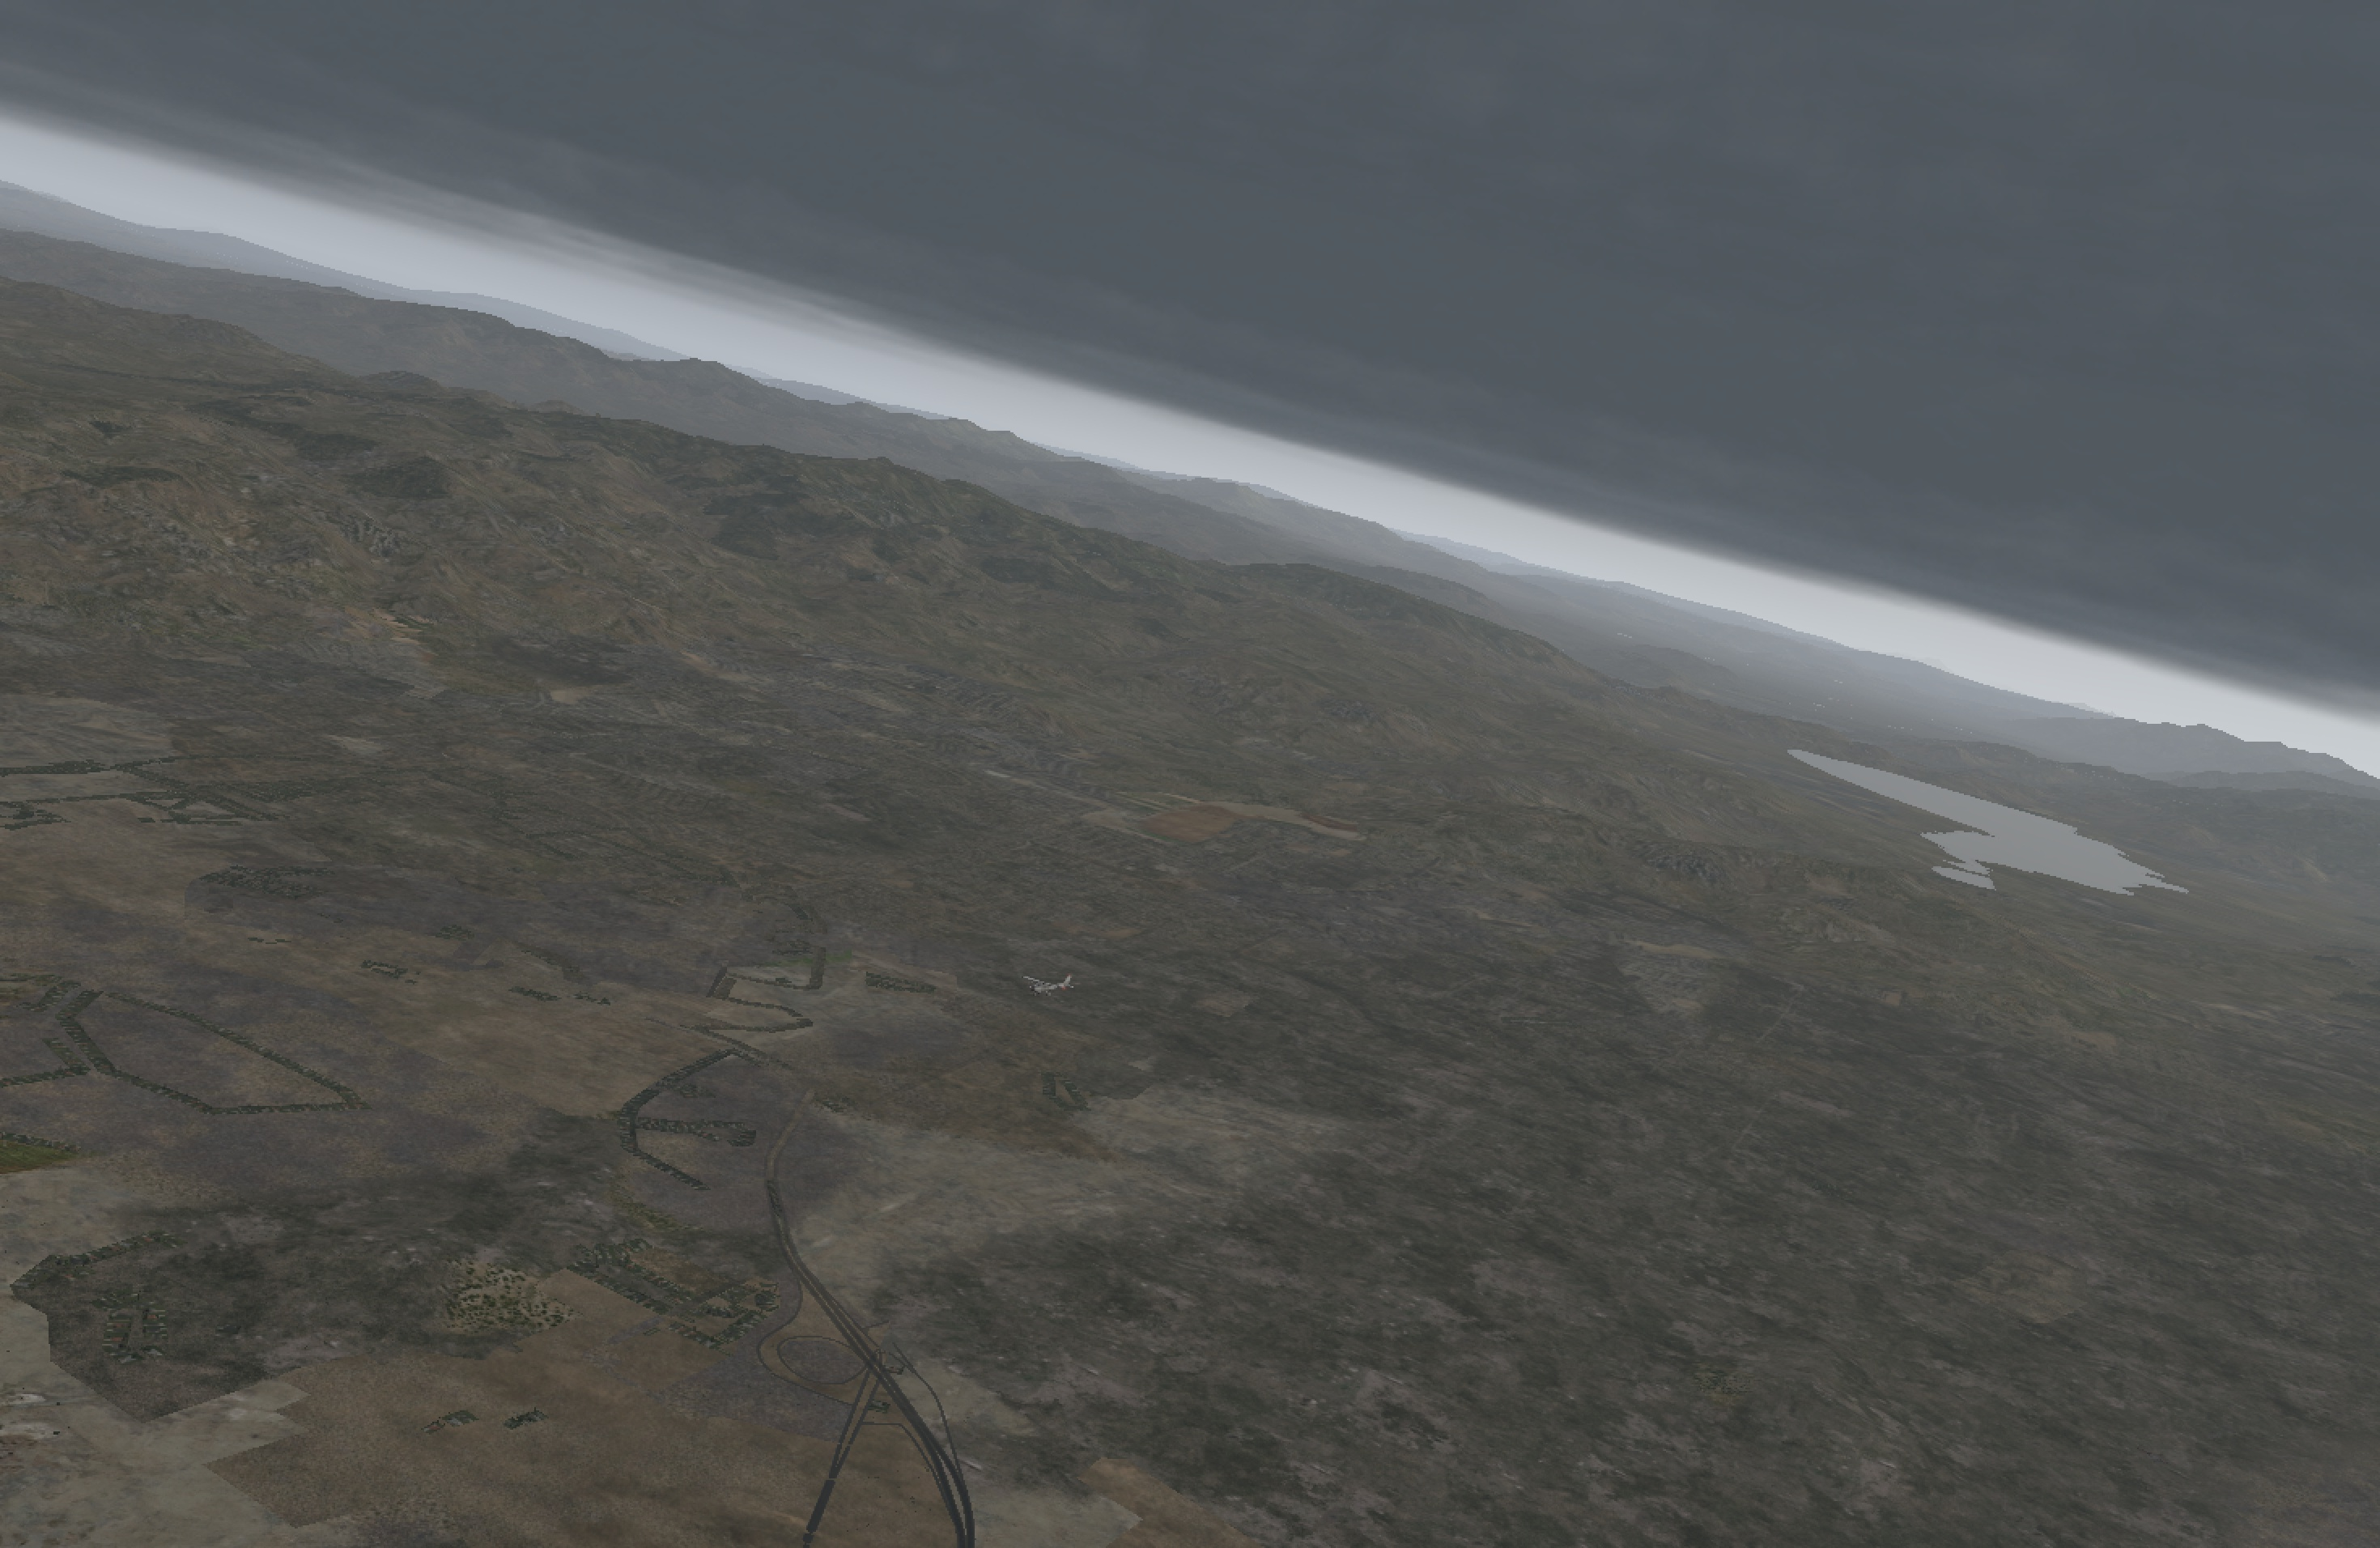aircraft: (1017, 977, 1067, 996)
